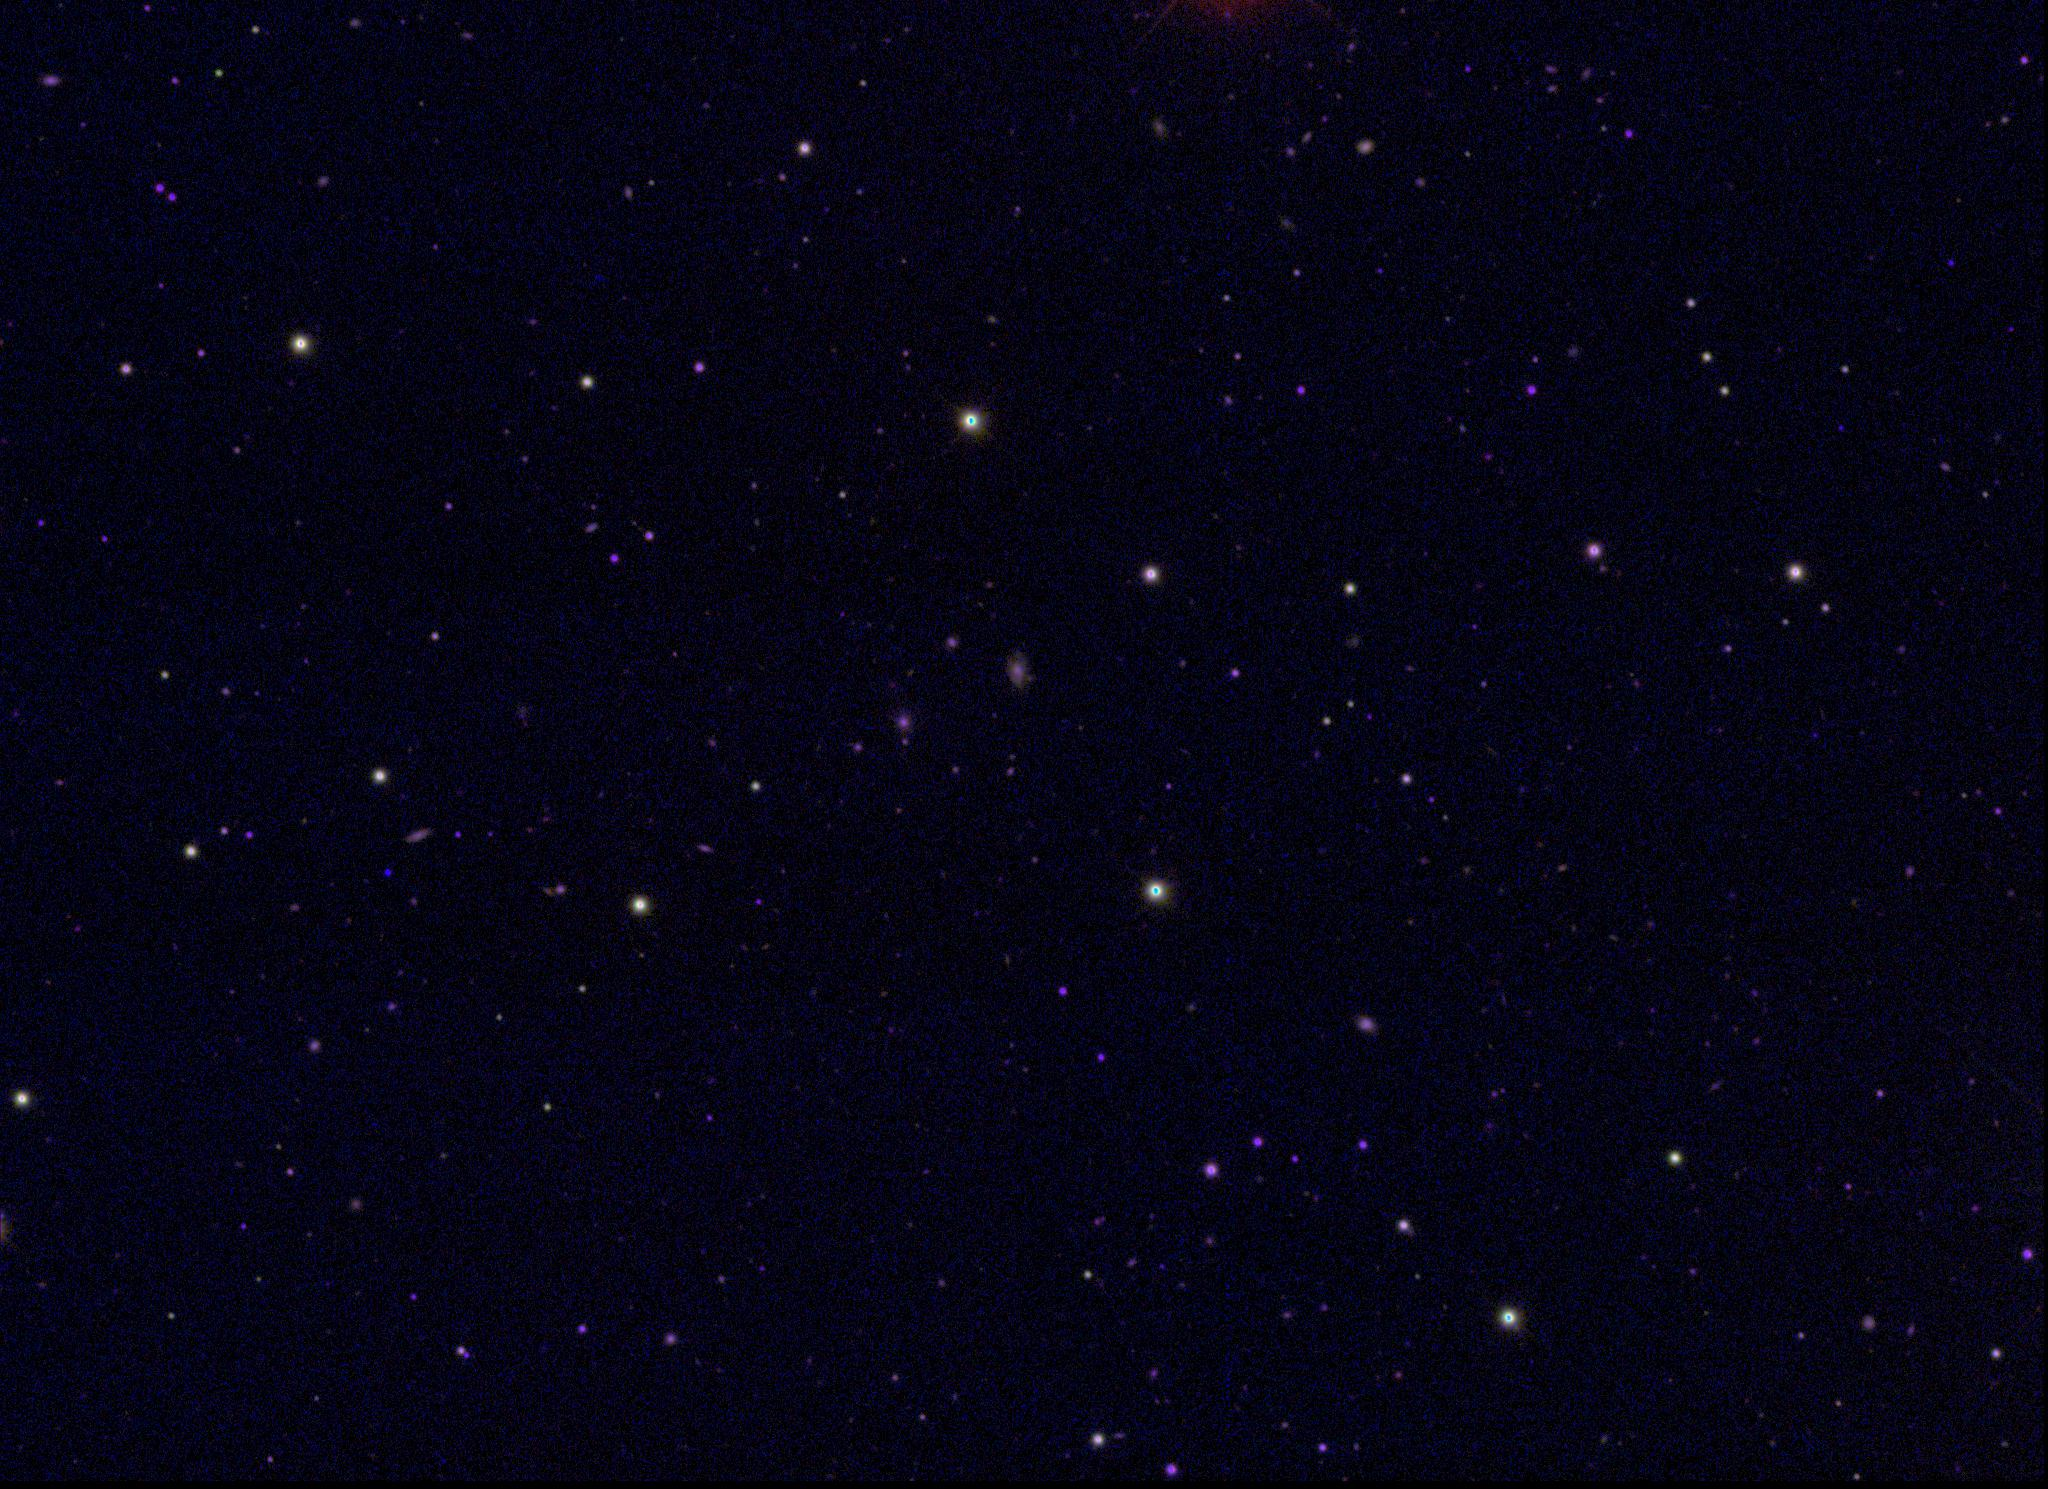L: (382, 865, 394, 880)
